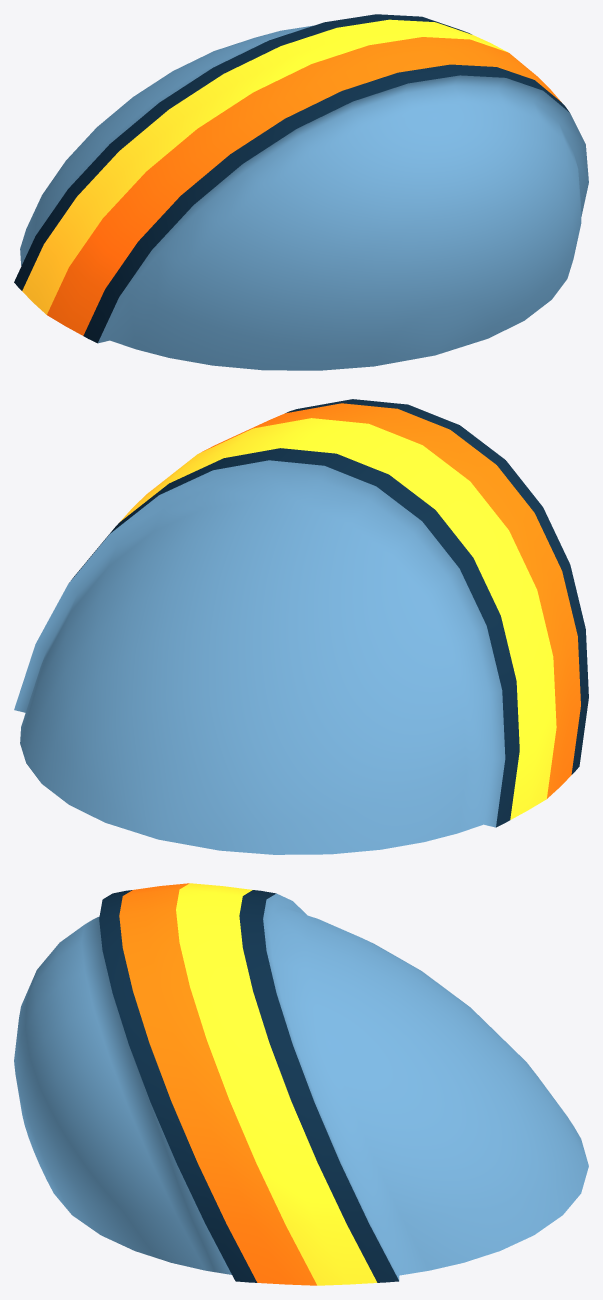
Rendered from shot_microbomb_271.glb.
3 views of the same model, one above another, from view 1: azimuth 30°, elevation 25°; view 2: azimuth 150°, elevation 25°; view 3: azimuth 270°, elevation 25° (orthographic). The views are drawn at different scales.
Parts seen in each view (by area): view 1: mb_ball; view 2: mb_ball; view 3: mb_ball.
Part boxes in pixels (x1,y1,x2,y2): mb_ball: (14, 14, 588, 370); mb_ball: (14, 399, 588, 854); mb_ball: (14, 883, 588, 1285).
Bounding box in the file's own units: 10.84 × 5.42 × 11.01.
